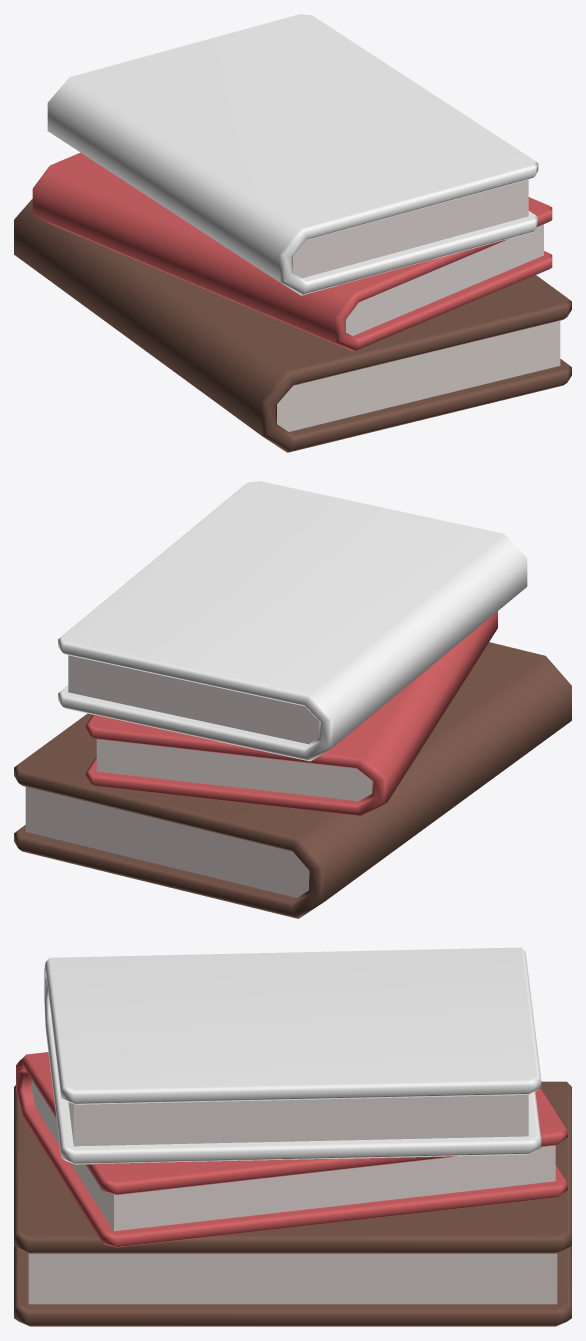
File: prop_019.fbx
3 views of the same model, one above another, from view 1: azimuth 30°, elevation 25°; view 2: azimuth 150°, elevation 25°; view 3: azimuth 270°, elevation 25° (orthographic). The views are drawn at different scales.
Parts seen in each view (by area): view 1: prop_019; view 2: prop_019; view 3: prop_019.
Part boxes in pixels (box(x1,y1,x2,y2)): prop_019: box(14, 14, 571, 452); prop_019: box(14, 481, 571, 918); prop_019: box(14, 947, 571, 1326).
Size of the model in its own units: 34.05 by 41.57 by 18.9.
